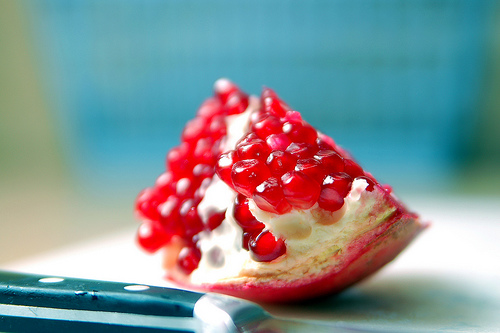pomogranate: (131, 77, 433, 305)
